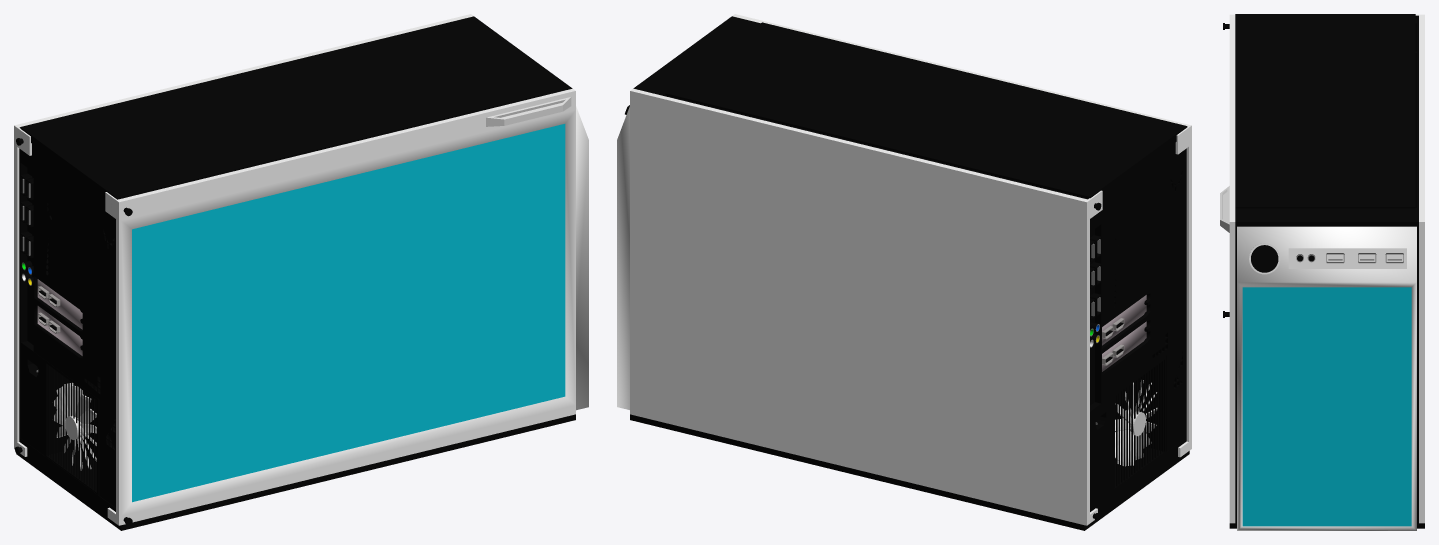
File: case5.fbx
3 renders of one model, left to right at view 1: azimuth 30°, elevation 25°; view 2: azimuth 150°, elevation 25°; view 3: azimuth 270°, elevation 25°, orthographic. The views are drawn at different scales.
Parts seen in each view (by area): view 1: right, Plane, back, power, left, Plane.001, powerfan; view 2: left, Plane, back, power, Plane.001, right, powerfan; view 3: Plane.002, Plane, Plane.001, right, left, USB, powerbutton, back.
Boxes of the visible parts, x1=… form: right: x1=105, y1=88, x2=575, y2=525; Plane: x1=16, y1=16, x2=575, y2=530; back: x1=19, y1=168, x2=115, y2=507; power: x1=21, y1=341, x2=99, y2=495; left: x1=14, y1=14, x2=473, y2=456; Plane.001: x1=576, y1=106, x2=588, y2=410; powerfan: x1=54, y1=382, x2=96, y2=470; left: x1=630, y1=88, x2=1102, y2=525; Plane: x1=630, y1=16, x2=1189, y2=530; back: x1=1090, y1=163, x2=1185, y2=451; power: x1=1090, y1=356, x2=1166, y2=507; Plane.001: x1=617, y1=106, x2=629, y2=409; right: x1=732, y1=14, x2=1191, y2=457; powerfan: x1=1115, y1=380, x2=1157, y2=466; Plane.002: x1=1242, y1=287, x2=1411, y2=526; Plane: x1=1229, y1=14, x2=1424, y2=528; Plane.001: x1=1237, y1=226, x2=1416, y2=530; right: x1=1220, y1=14, x2=1235, y2=523; left: x1=1415, y1=14, x2=1424, y2=523; USB: x1=1249, y1=243, x2=1406, y2=274; powerbutton: x1=1251, y1=245, x2=1278, y2=272; back: x1=1415, y1=51, x2=1416, y2=207.
Bounding box in the file's own units: 26.35 × 17.37 × 10.48.
